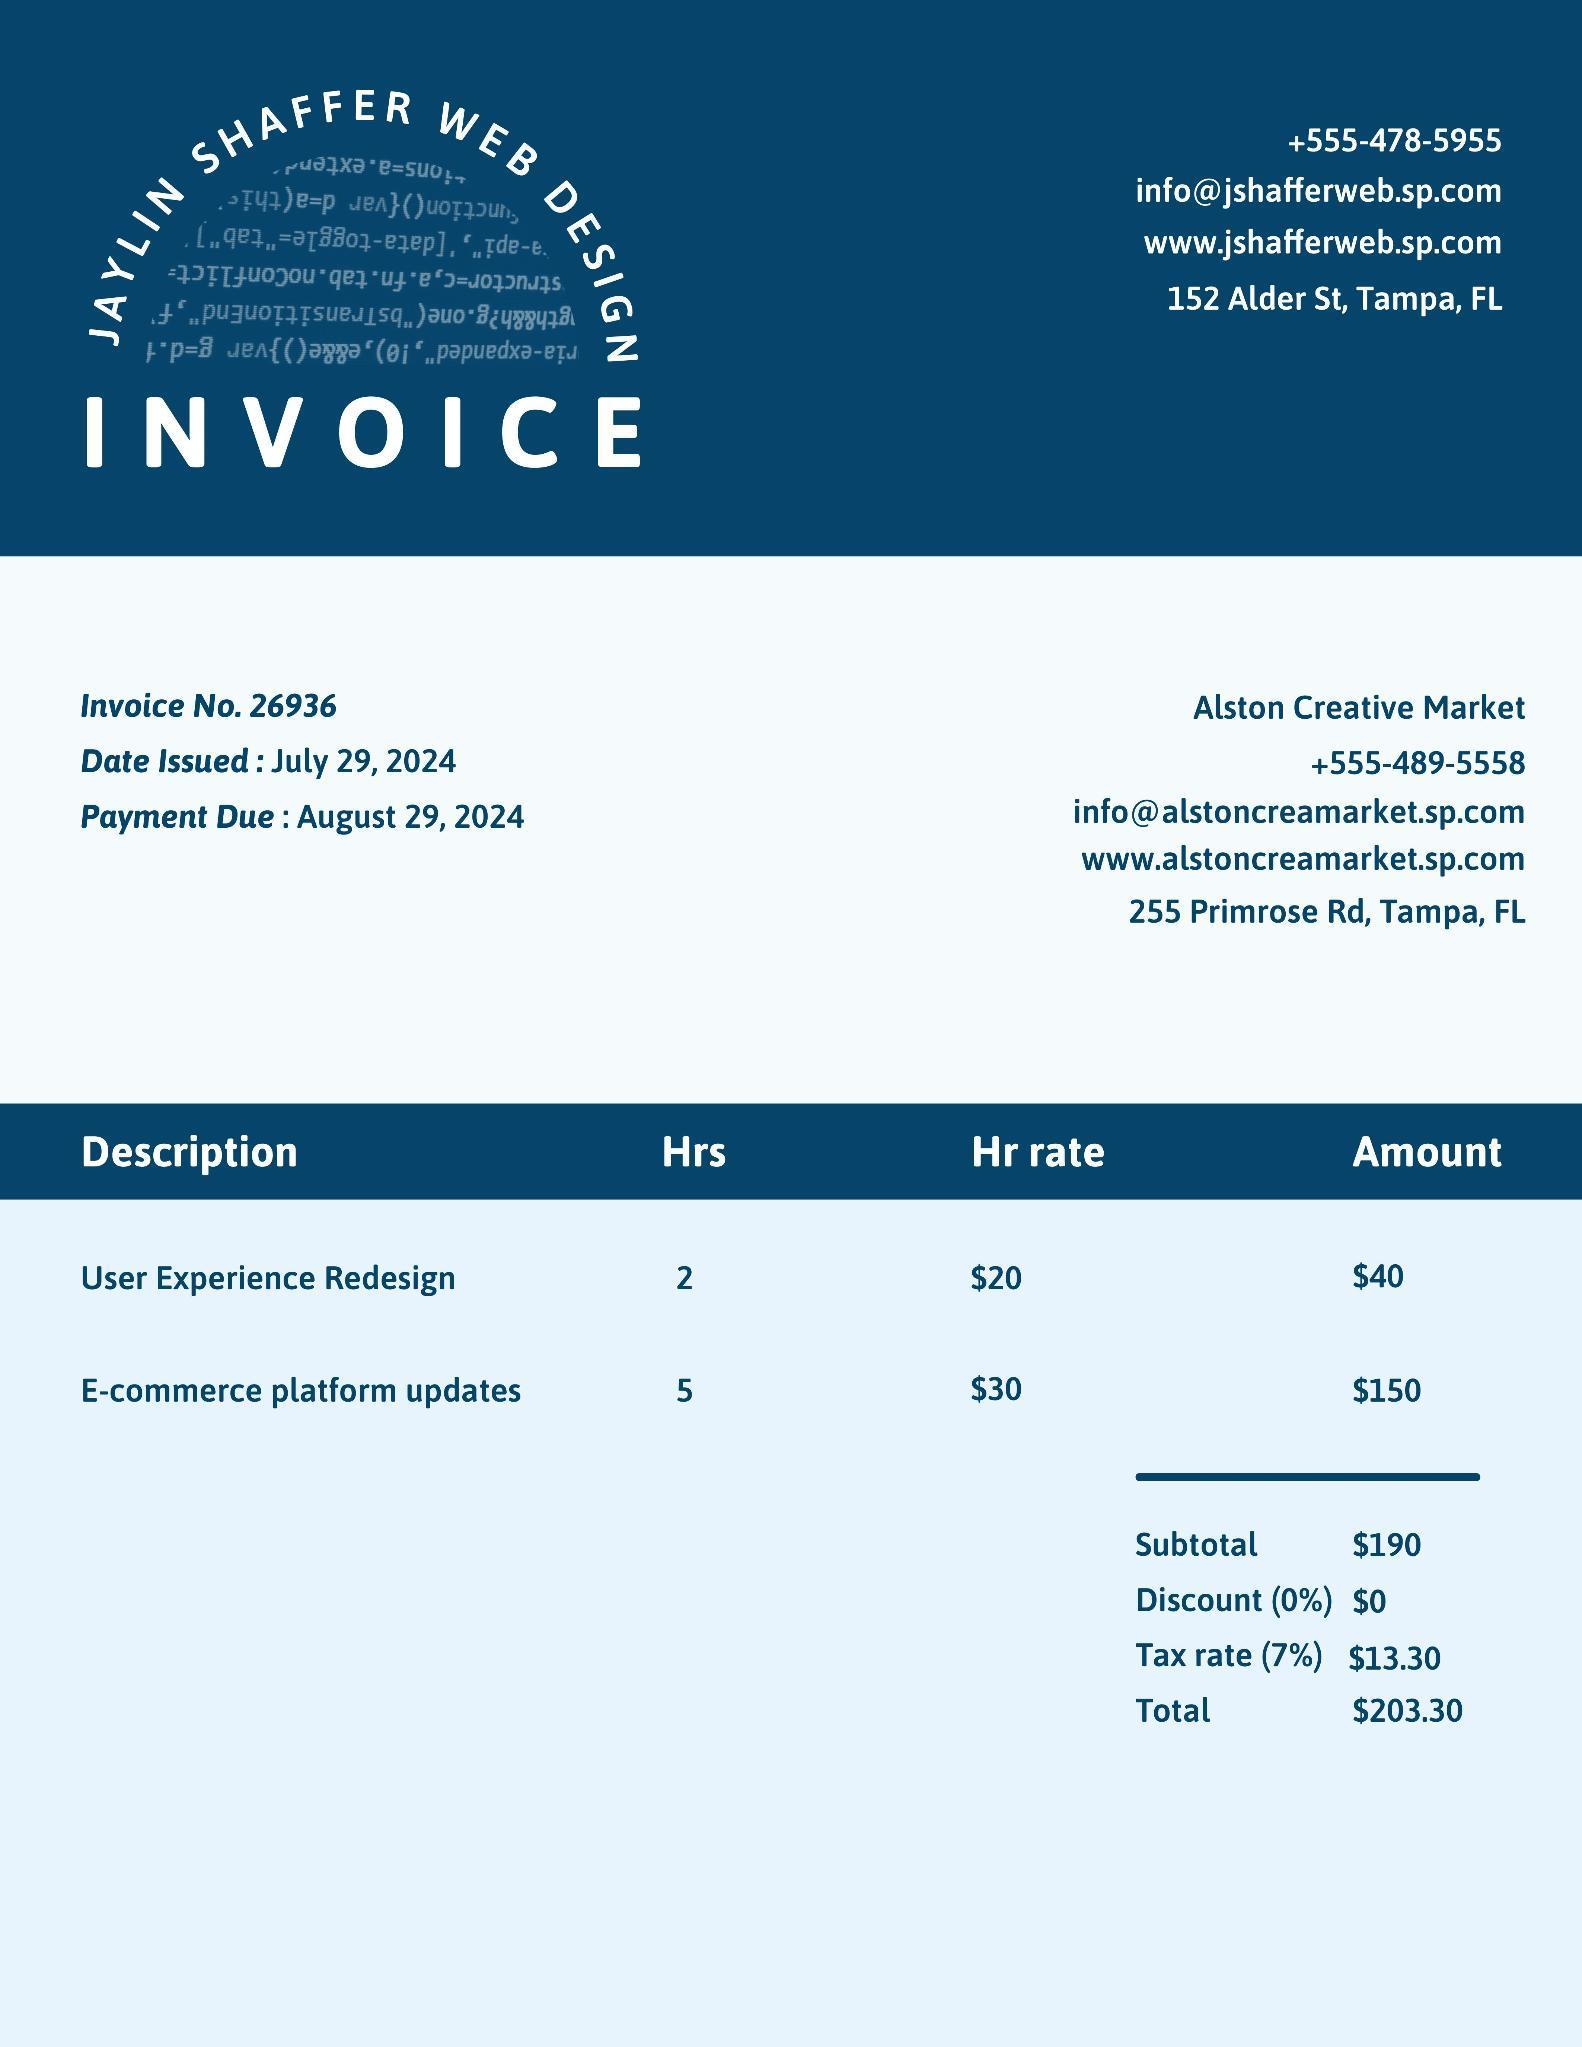ROI: (20, 1059, 1540, 1439), (43, 35, 697, 377), (1034, 657, 1551, 985), (1092, 35, 1530, 389), (46, 661, 550, 871), (1112, 1487, 1499, 1751), (65, 393, 667, 492)
